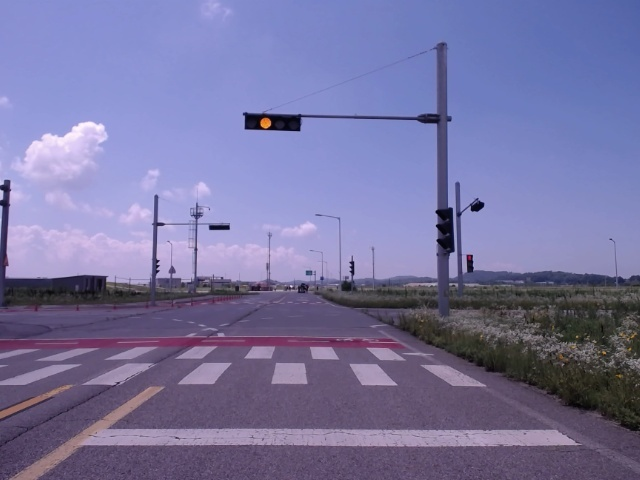orange_4: (244, 115, 301, 131)
